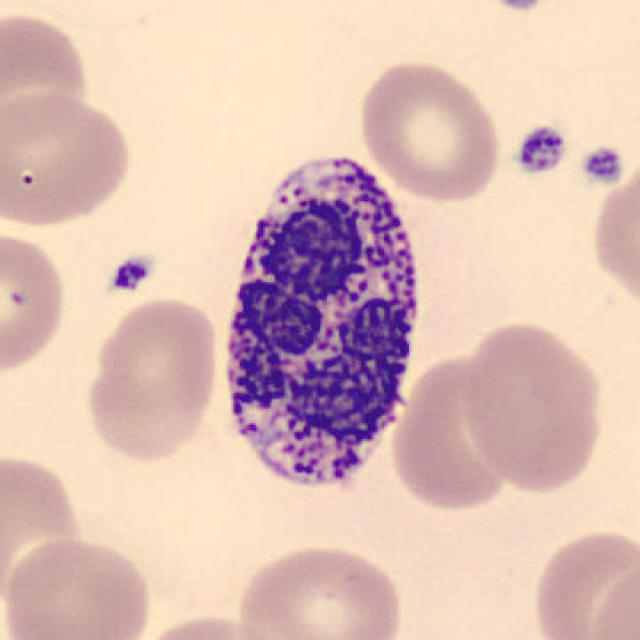Basophil: (208, 136, 434, 516)
Platelets: (512, 122, 569, 178), (578, 142, 628, 188), (105, 252, 155, 298), (489, 0, 547, 16)
RBC: (459, 316, 608, 499), (80, 293, 222, 467), (354, 56, 505, 205), (0, 88, 137, 231), (398, 356, 520, 511), (231, 537, 409, 640), (0, 532, 156, 639), (0, 444, 89, 619), (0, 7, 94, 146), (526, 522, 636, 640), (0, 226, 71, 379), (587, 150, 638, 319), (128, 610, 297, 640), (585, 555, 638, 640)
